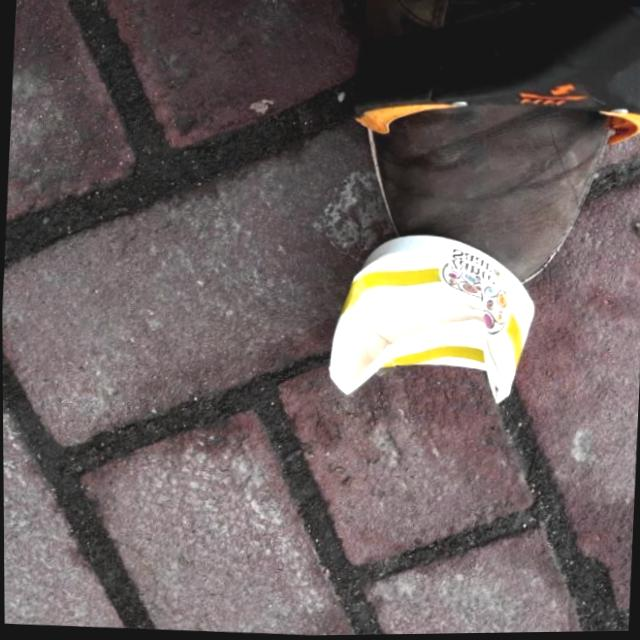Paper: (322, 227, 540, 413)
